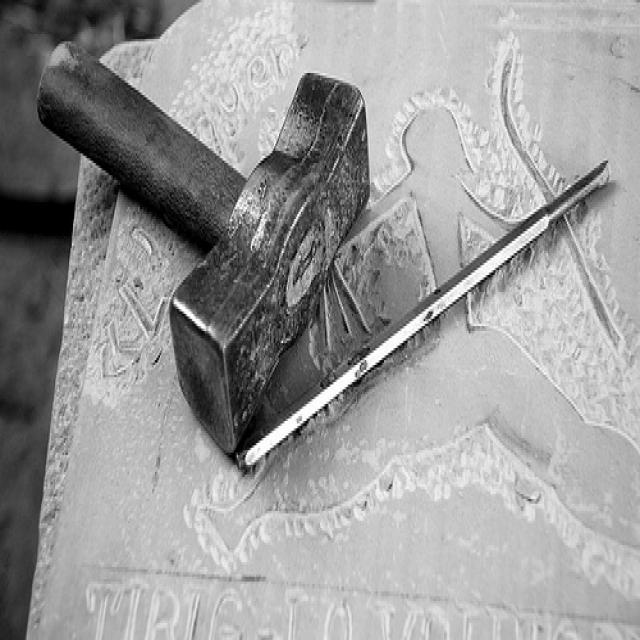hammer: (34, 30, 373, 474)
